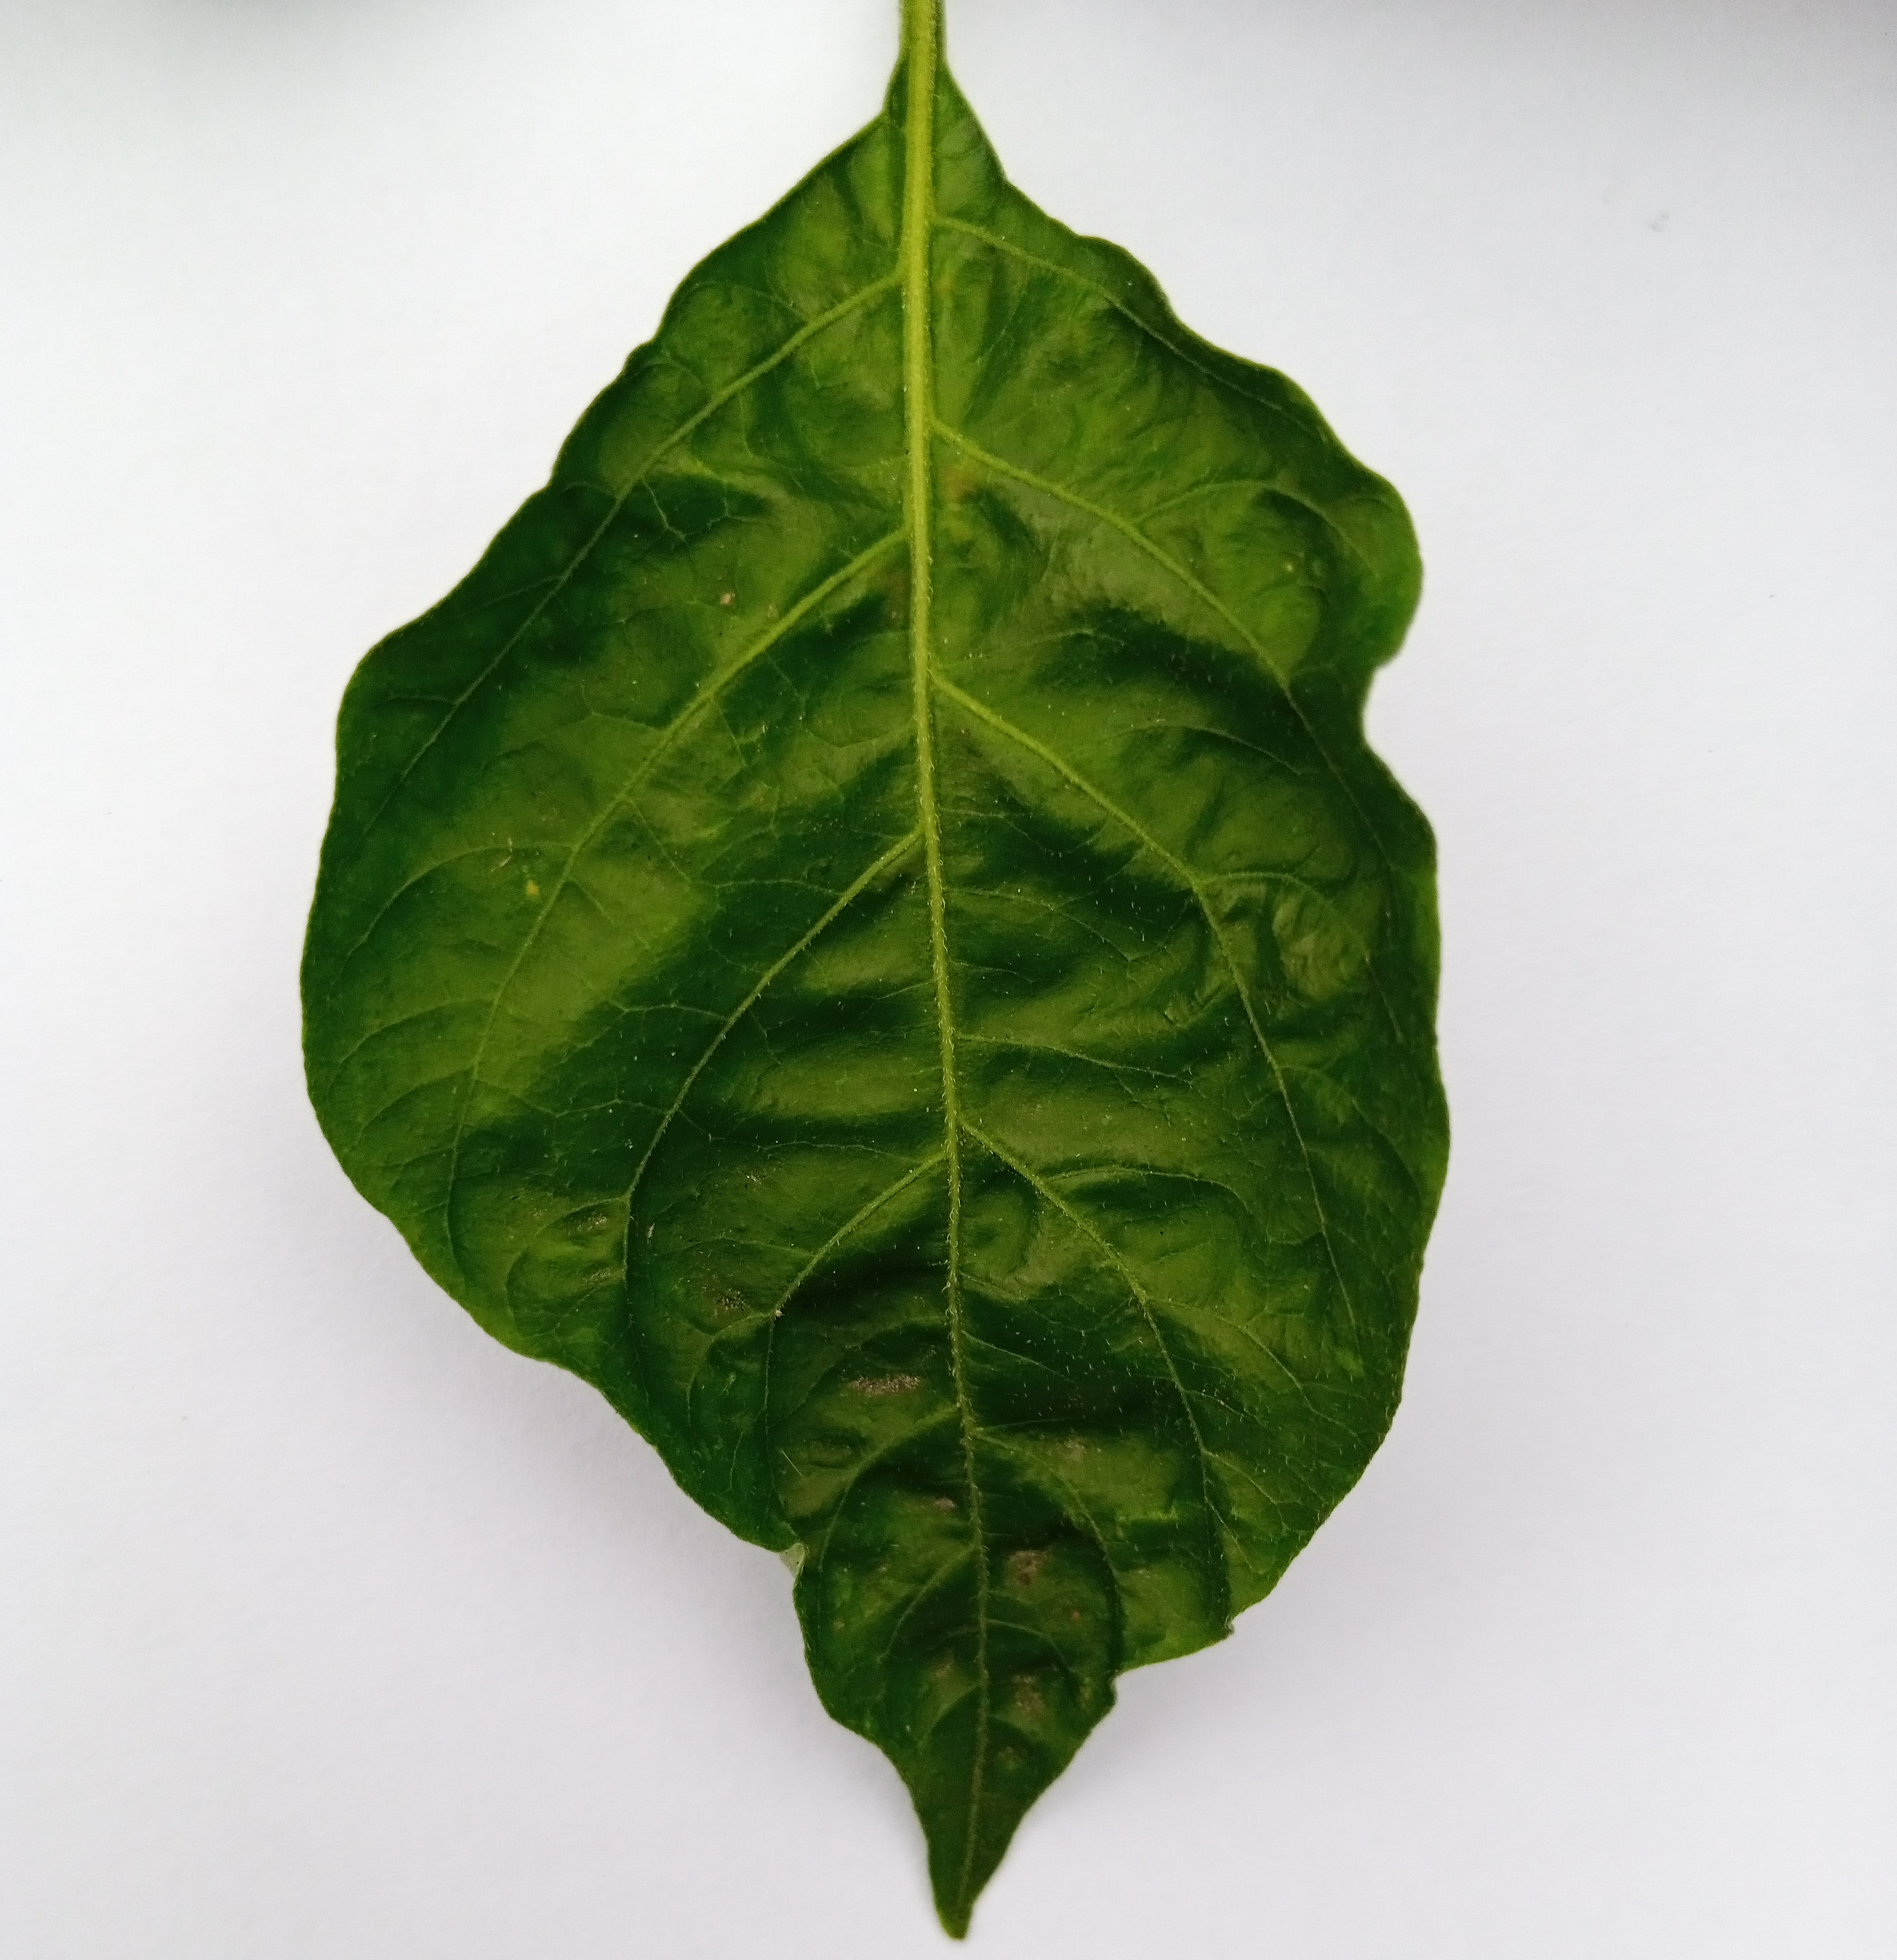Leaf: (208, 35, 1612, 1960)
